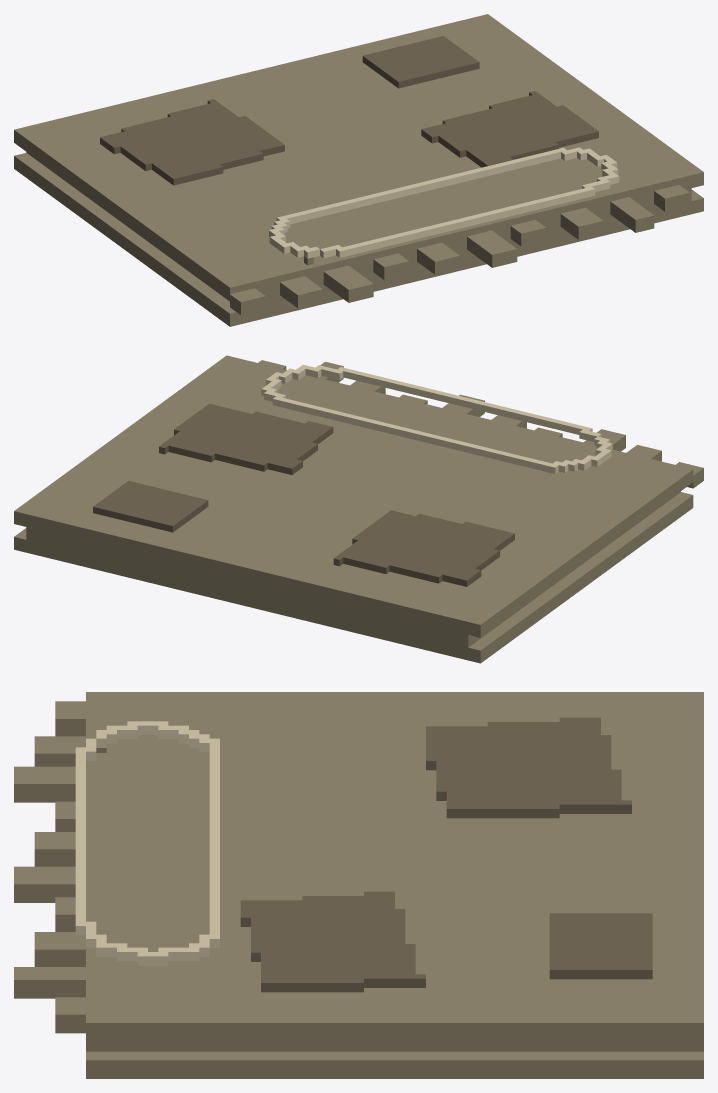
The model's file is tunic_rag.glb.
The picture shows the model from 3 angles, top to bottom: view 1: azimuth 30°, elevation 25°; view 2: azimuth 150°, elevation 25°; view 3: azimuth 270°, elevation 25°; orthographic projection. The views are drawn at different scales.
Parts seen in each view (by area): view 1: tunic_rag:compound; view 2: tunic_rag:compound; view 3: tunic_rag:compound.
Part boxes in pixels (x1,y1,x2,y2): tunic_rag:compound: (14, 14, 703, 326); tunic_rag:compound: (14, 355, 703, 663); tunic_rag:compound: (14, 692, 703, 1078).
Size of the model in its own units: 0.304 by 0.032 by 0.268.
